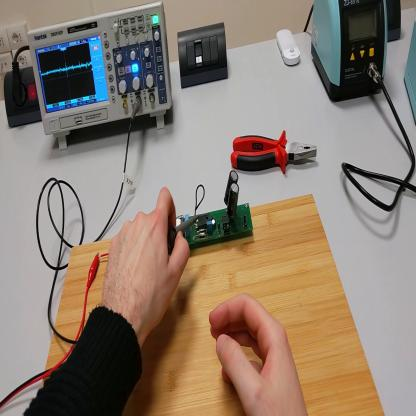hand: (102, 189, 188, 336), (210, 295, 306, 416)
high voltage board: (176, 171, 254, 248)
oscilloscope: (27, 1, 175, 152)
oscilloscope probe tip: (167, 217, 196, 250)
pliers: (231, 126, 318, 178)
socket: (5, 63, 44, 133), (387, 2, 404, 46)
welder base: (405, 19, 416, 126)
welder station: (312, 1, 387, 101)
working area: (47, 193, 383, 414)
